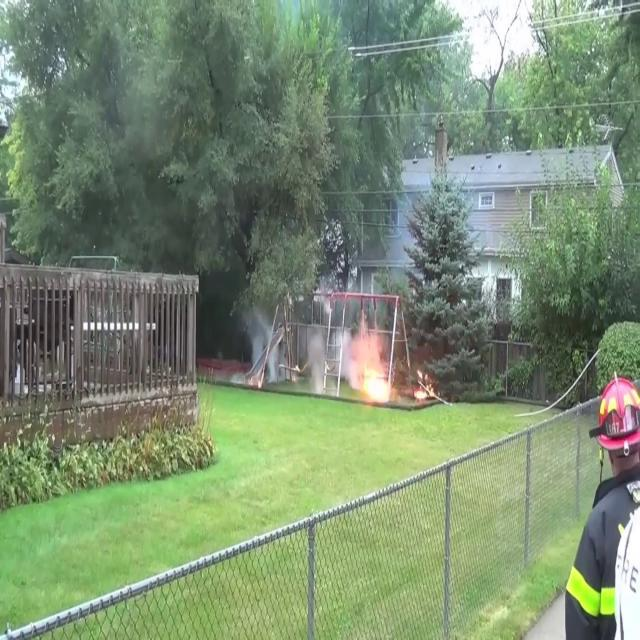Fire: (350, 328, 394, 407)
